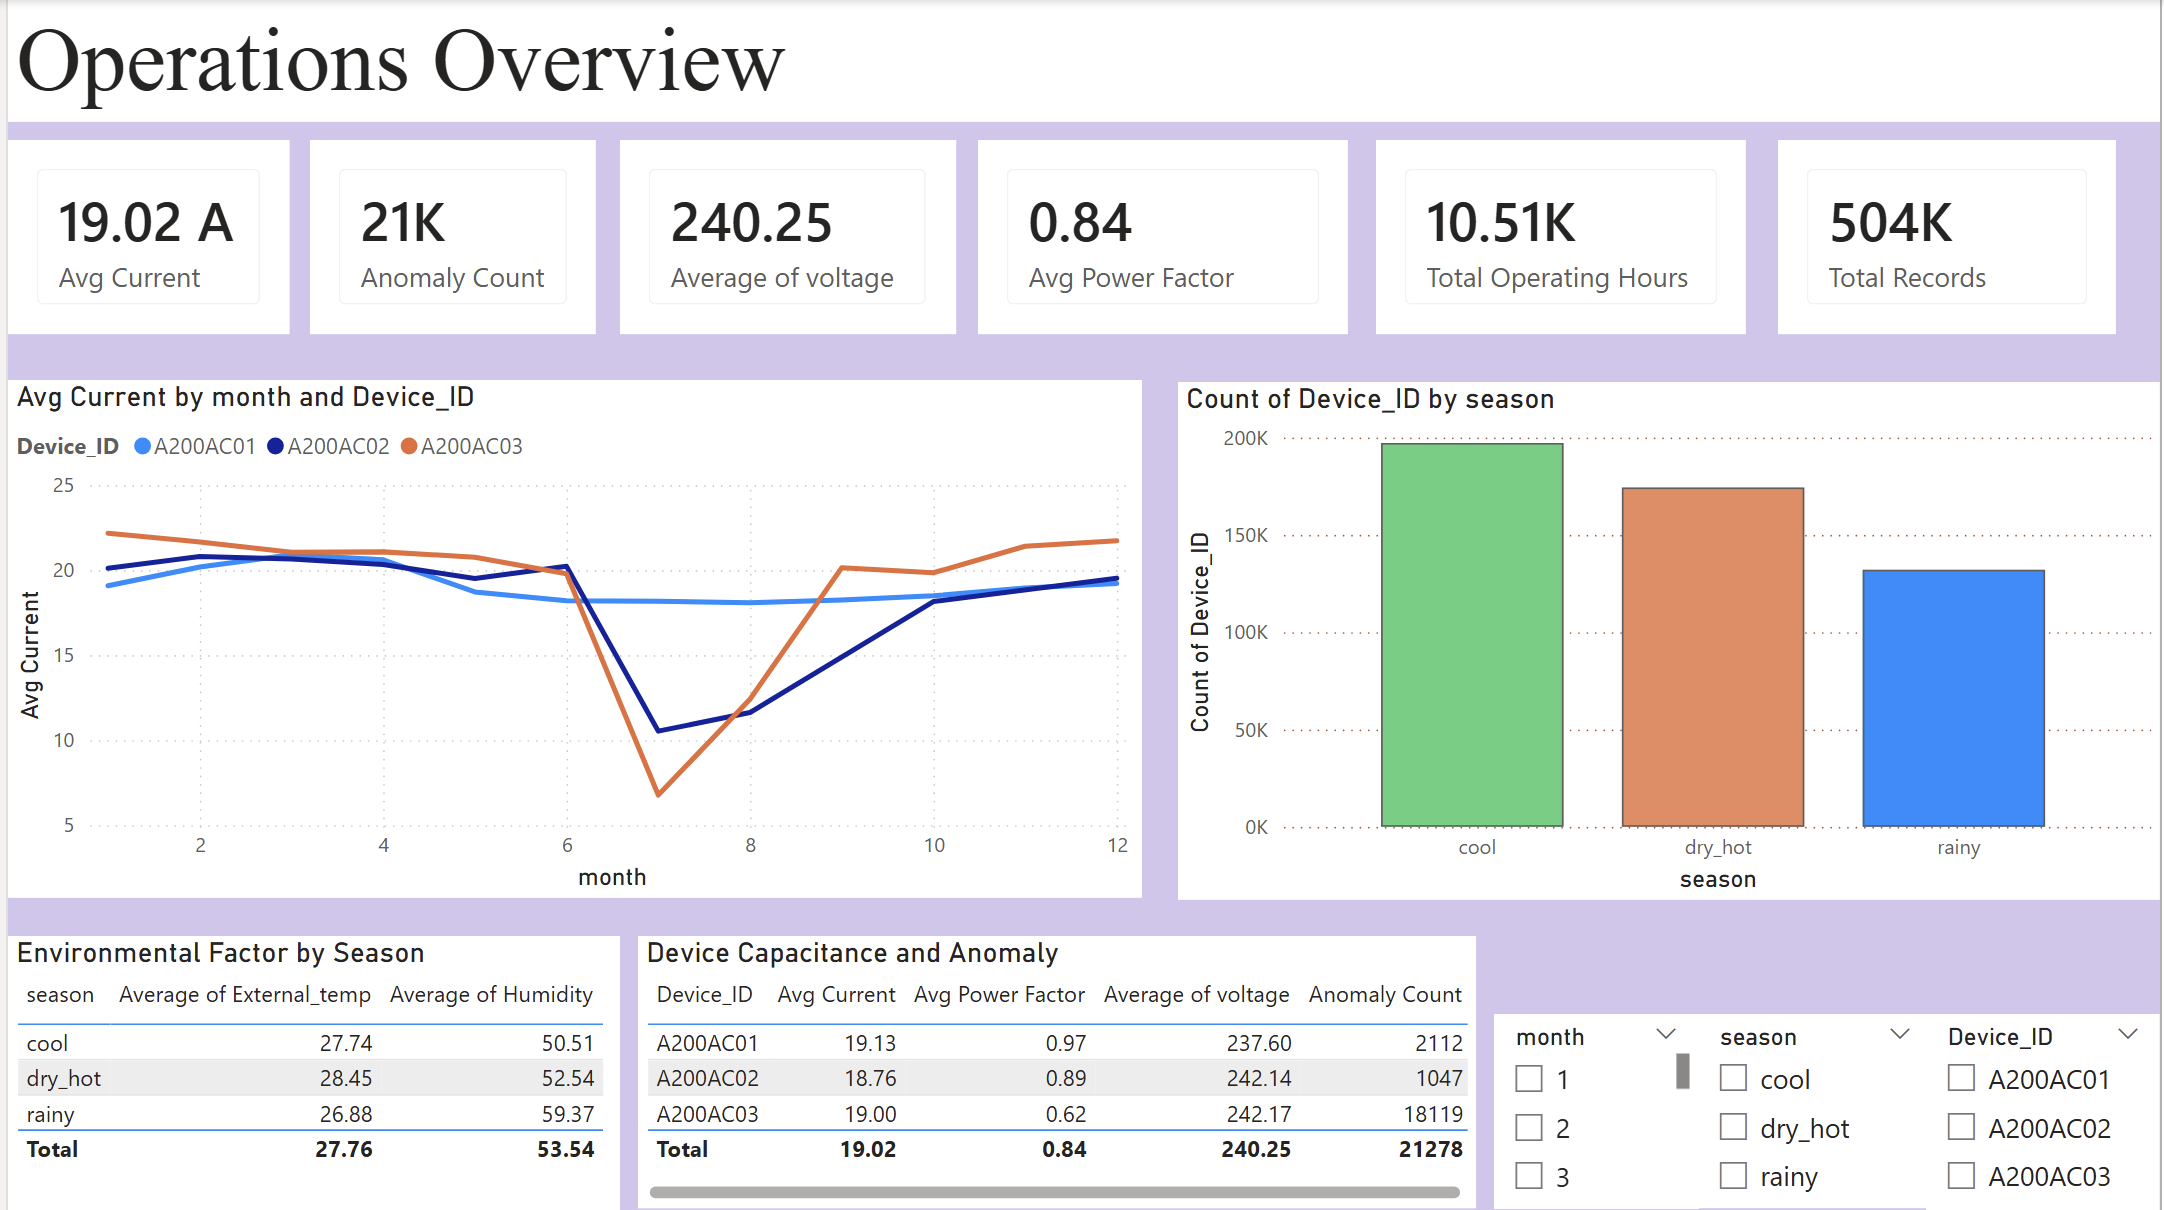

This screenshot's page, from the dashboard's own definition file:
{"tool":"powerbi","page":{"name":"Comprehensive view","canvas":[1280,720],"ordinal":0},"visuals":[{"type":"cardVisual","fields":{"Data":["Measure.Avg Power Factor"]},"box":[577,83.3,220.1,115.4],"z":0},{"type":"cardVisual","fields":{"Data":["Measure.Avg Current"]},"box":[0,83.3,167.7,115.4],"z":1000},{"type":"cardVisual","fields":{"Data":["Measure.Anomaly Count"]},"box":[179.6,83.3,170.1,115.4],"z":2000},{"type":"cardVisual","fields":{"Data":["Measure.Total Operating Hours"]},"box":[813.7,83.3,220.1,115.4],"z":3000},{"type":"lineChart","fields":{"Y":["Measure.Avg Current"],"Series":["Goa_A200_AC_unit_performance_clean.Device_ID"],"Category":["Goa_A200_AC_unit_performance_clean.month"]},"box":[0,226,674.5,308.1],"z":4000},{"type":"columnChart","fields":{"Category":["Goa_A200_AC_unit_performance_clean.season"],"Y":["CountNonNull(Goa_A200_AC_unit_performance_clean.Device_ID)"]},"box":[695.9,227.2,584.1,308.1],"z":5000},{"type":"tableEx","title":"Device Capacitance and Anomaly","fields":{"Values":["Goa_A200_AC_unit_performance_clean.Device_ID","Measure.Avg Current","Measure.Avg Power Factor","Avg(Goa_A200_AC_unit_performance_clean.voltage)","Measure.Anomaly Count"]},"box":[374.7,556.7,498.4,161.8],"z":6000},{"type":"tableEx","title":"Environmental Factor by Season","fields":{"Values":["Goa_A200_AC_unit_performance_clean.season","Avg(Goa_A200_AC_unit_performance_clean.External_temp)","Avg(Goa_A200_AC_unit_performance_clean.Humidity)"]},"box":[0,556.7,364,163],"z":7000},{"type":"slicer","fields":{"Values":["Goa_A200_AC_unit_performance_clean.month"]},"box":[883.9,603.1,121.3,115.4],"z":8000},{"type":"slicer","fields":{"Values":["Goa_A200_AC_unit_performance_clean.Device_ID"]},"box":[1140.8,603.1,139.2,117.8],"z":9000},{"type":"slicer","fields":{"Values":["Goa_A200_AC_unit_performance_clean.season"]},"box":[1005.2,603.1,139.2,115.4],"z":10000},{"type":"textbox","box":[0,0,1280,72.6],"z":10001},{"type":"cardVisual","title":"hhh","fields":{"Data":["Avg(Goa_A200_AC_unit_performance_clean.voltage)"]},"box":[364,83.3,199.9,115.4],"z":10002},{"type":"cardVisual","fields":{"Data":["Goa_A200_AC_unit_performance_clean.Total Records"]},"box":[1052.8,83.3,201,115.4],"z":10003}]}

Visuals, with their boxes in screenshot pixels (x1, y1, x2, y2), scaled from the page's 1280x720 canvas onto the 2164x1210 screenshot:
cardVisual - Measure.Avg Power Factor: (975,140,1348,334)
cardVisual - Measure.Avg Current: (0,140,284,334)
cardVisual - Measure.Anomaly Count: (304,140,591,334)
cardVisual - Measure.Total Operating Hours: (1376,140,1748,334)
lineChart - Measure.Avg Current x Goa_A200_AC_unit_performance_clean.Device_ID: (0,380,1140,898)
columnChart - Goa_A200_AC_unit_performance_clean.season x CountNonNull(Goa_A200_AC_unit_performance_clean.Device_ID): (1177,382,2163,900)
"Device Capacitance and Anomaly" tableEx: (633,936,1476,1207)
"Environmental Factor by Season" tableEx: (0,936,615,1209)
slicer - Goa_A200_AC_unit_performance_clean.month: (1494,1014,1699,1207)
slicer - Goa_A200_AC_unit_performance_clean.Device_ID: (1929,1014,2163,1209)
slicer - Goa_A200_AC_unit_performance_clean.season: (1699,1014,1935,1207)
textbox: (0,0,2163,122)
"hhh" cardVisual: (615,140,953,334)
cardVisual - Goa_A200_AC_unit_performance_clean.Total Records: (1780,140,2120,334)
